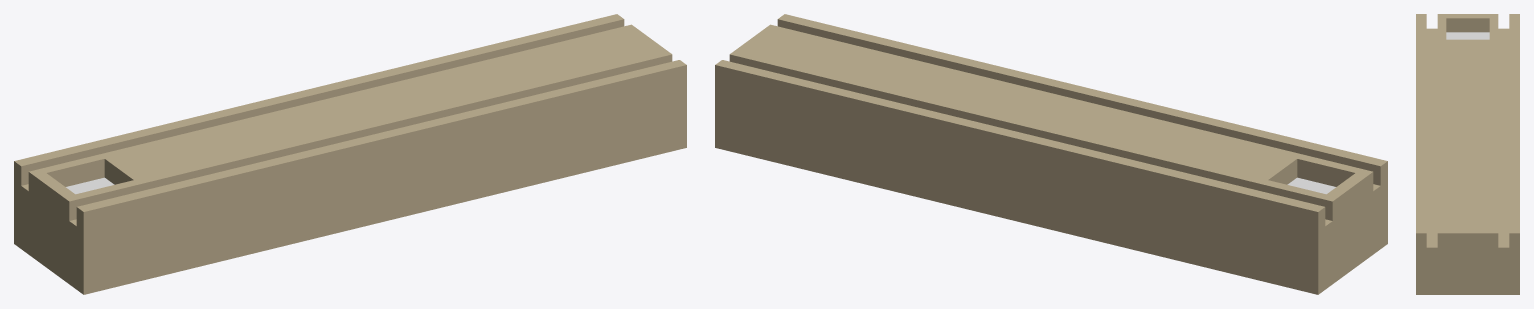
The model's file is Button.fbx.
The picture shows the model from 3 angles, left to right: view 1: azimuth 30°, elevation 25°; view 2: azimuth 150°, elevation 25°; view 3: azimuth 270°, elevation 25°; orthographic projection. The views are drawn at different scales.
Parts seen in each view (by area): view 1: Cube; view 2: Cube; view 3: Cube.
Part boxes in pixels (box(x1,y1,x2,y2)): Cube: box(14, 14, 686, 294); Cube: box(715, 14, 1387, 294); Cube: box(1416, 14, 1519, 294).
Size of the model in its own units: 500 by 65.67 by 100.
